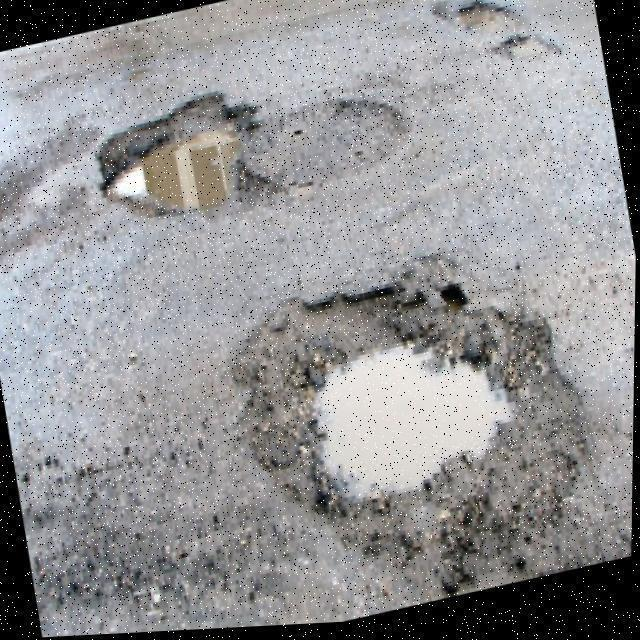Pothole: (217, 251, 593, 602), (84, 84, 297, 226), (415, 0, 584, 80)
